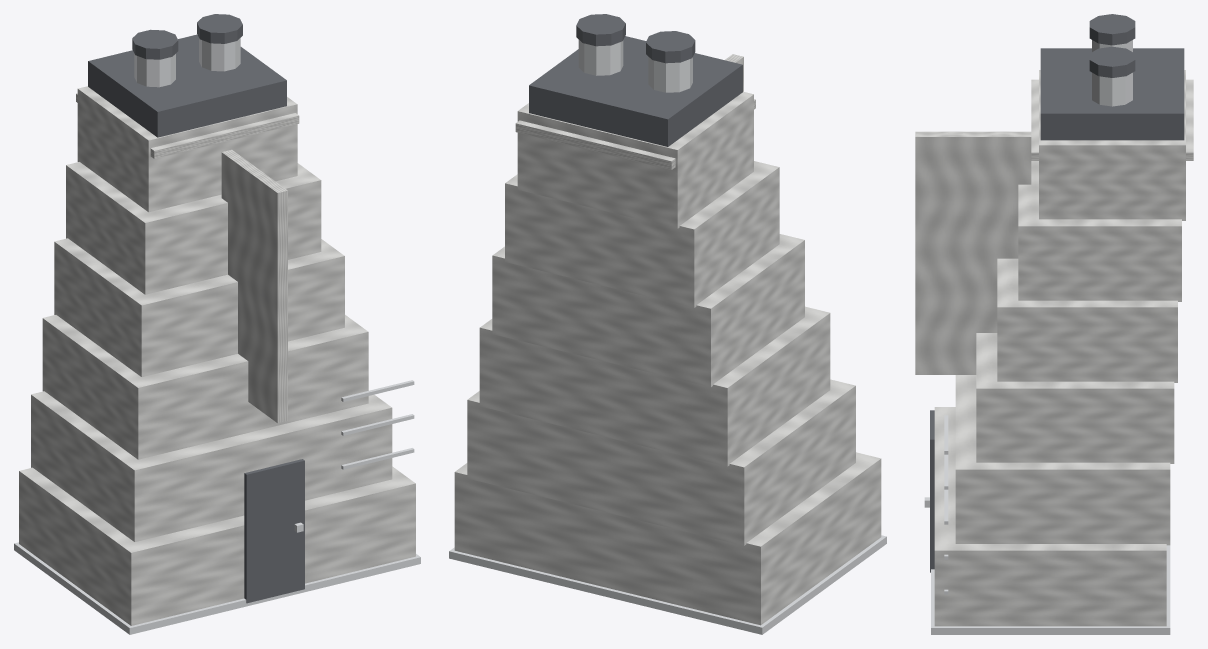
The model's file is cruise-ship-deck-and-lounge-cruise-ship-deck-and-loung-0fe6b7bb__38417.glb.
3 renders of one model, left to right at view 1: azimuth 30°, elevation 25°; view 2: azimuth 150°, elevation 25°; view 3: azimuth 270°, elevation 25°, orthographic. The views are drawn at different scales.
Parts seen in each view (by area): view 1: cruise-ship-deck-and-lounge-funnel-section; view 2: cruise-ship-deck-and-lounge-funnel-section; view 3: cruise-ship-deck-and-lounge-funnel-section.
Boxes of the visible parts, x1,y1,x2,y2 form: cruise-ship-deck-and-lounge-funnel-section: [14, 14, 420, 634]; cruise-ship-deck-and-lounge-funnel-section: [449, 14, 886, 634]; cruise-ship-deck-and-lounge-funnel-section: [915, 14, 1193, 634].
Size of the model in its own units: 4.5 by 7.44 by 3.6.
Materials: 3 (1 with a texture image).
